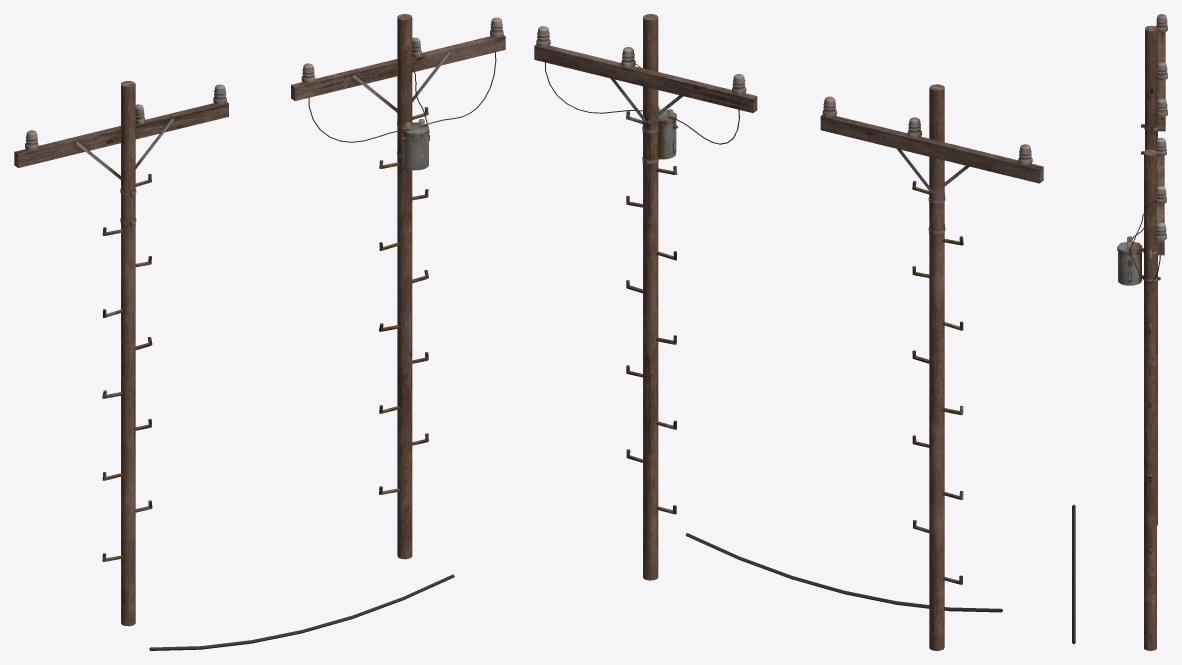
The model's file is telefon_direkleri.gltf.
The picture shows the model from 3 angles, left to right: view 1: azimuth 30°, elevation 25°; view 2: azimuth 150°, elevation 25°; view 3: azimuth 270°, elevation 25°; orthographic projection. The views are drawn at different scales.
Visible parts, largest first — view 1: telefon_direkleri; view 2: telefon_direkleri; view 3: telefon_direkleri.
Part boxes in pixels (<box>): telefon_direkleri: <box>14,14,505,650</box>; telefon_direkleri: <box>534,14,1043,650</box>; telefon_direkleri: <box>1072,14,1167,650</box>.
Size of the model in its own units: 8.79 by 9.5 by 1.63.
Materials: 3 (3 with a texture image).
